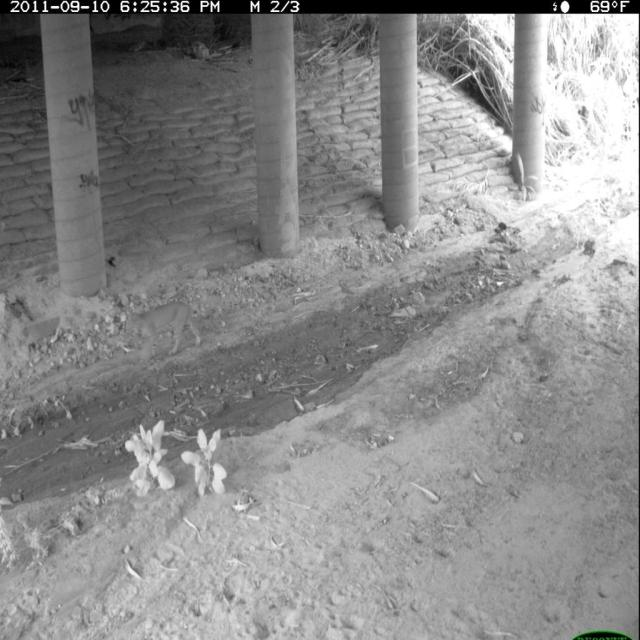bobcat: (123, 297, 205, 372)
